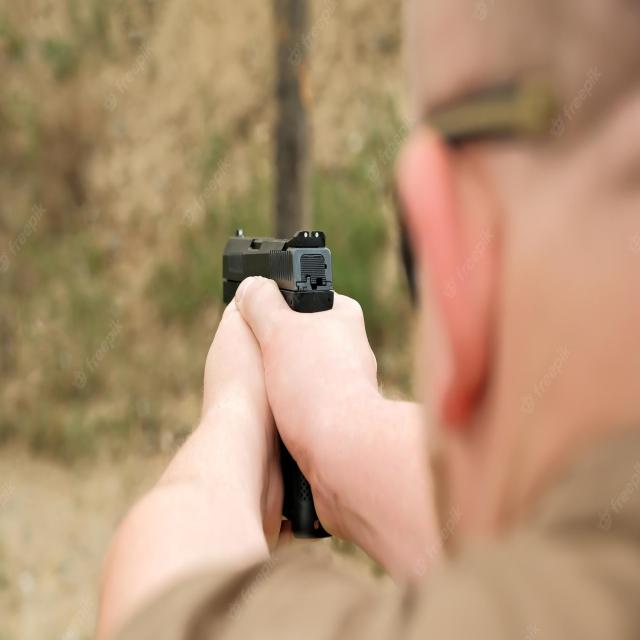HandGun: (215, 204, 342, 532)
